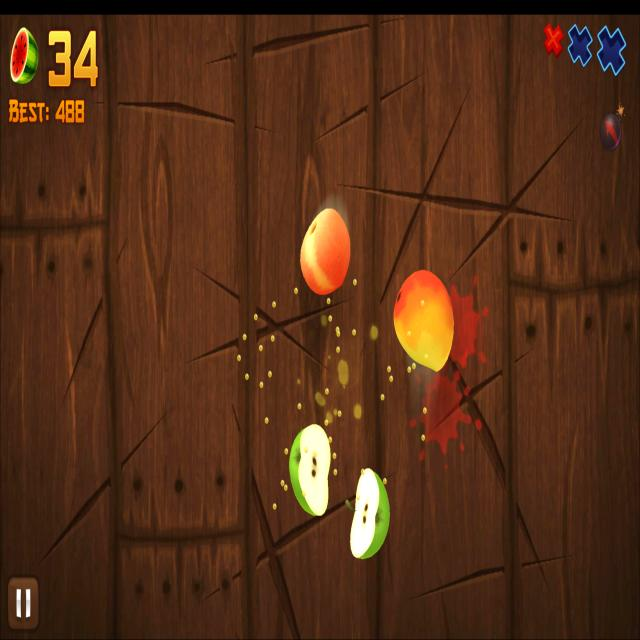fruit: (394, 270, 454, 372), (300, 207, 352, 295)
